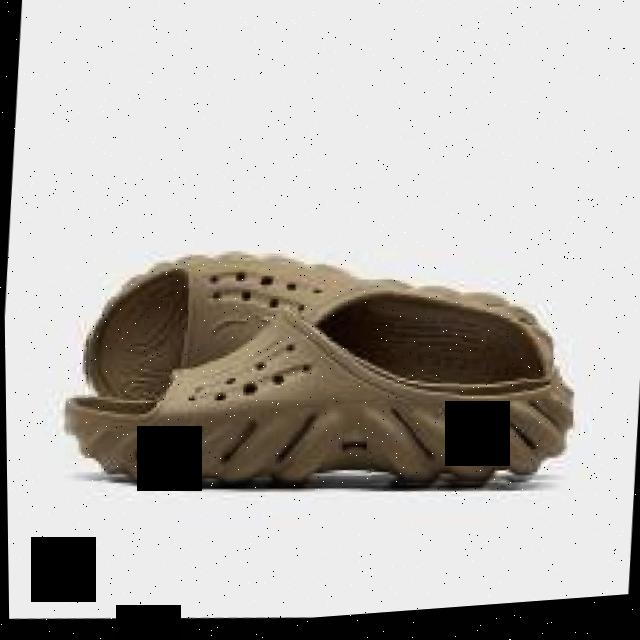shoe: (67, 309, 572, 490), (86, 257, 552, 403)
